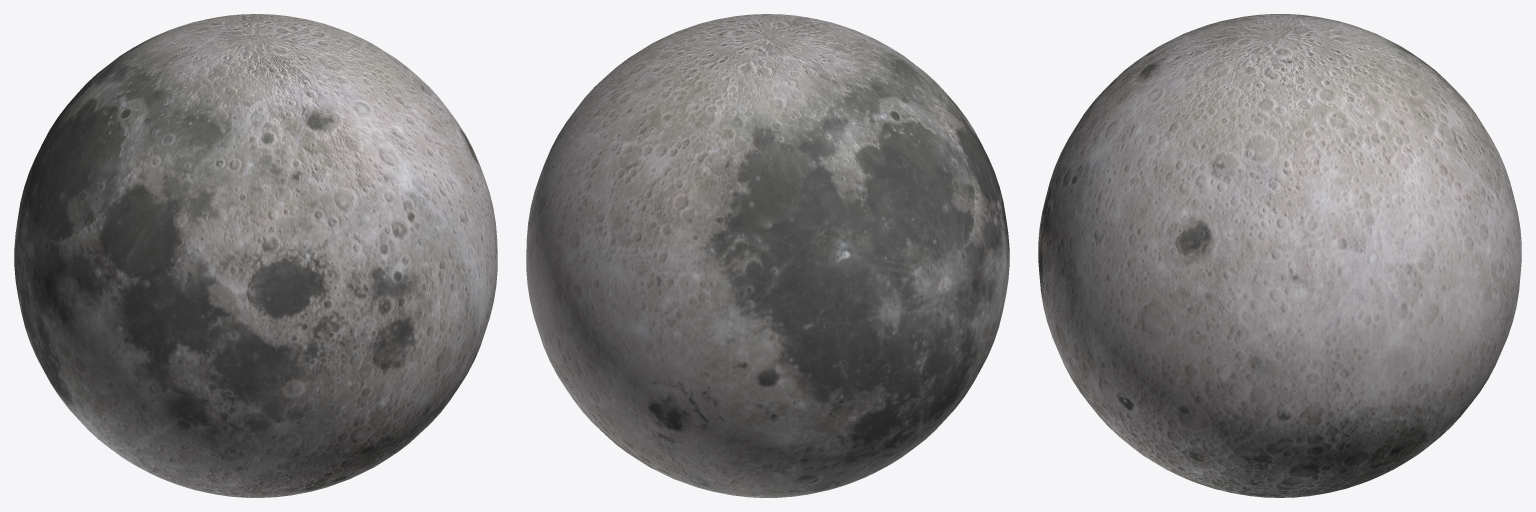
Rendered from moon.glb.
3 views of the same model, side by side, from view 1: azimuth 30°, elevation 25°; view 2: azimuth 150°, elevation 25°; view 3: azimuth 270°, elevation 25° (orthographic).
Parts seen in each view (by area): view 1: provideo_earth_realistc_01_lod0; view 2: provideo_earth_realistc_01_lod0; view 3: provideo_earth_realistc_01_lod0.
Part boxes in pixels (box(x1,y1,x2,y2)): provideo_earth_realistc_01_lod0: box(14, 14, 497, 497); provideo_earth_realistc_01_lod0: box(526, 14, 1009, 497); provideo_earth_realistc_01_lod0: box(1038, 14, 1521, 497).
Bounding box in the file's own units: 0.9825 × 0.9845 × 0.9832.
1 material, 1 textured.
